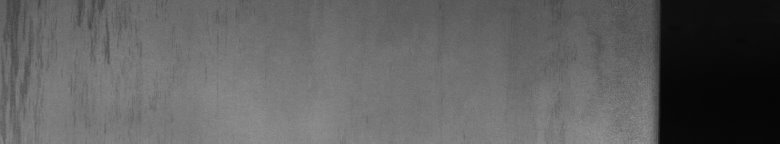ka: (4, 4, 112, 108)
